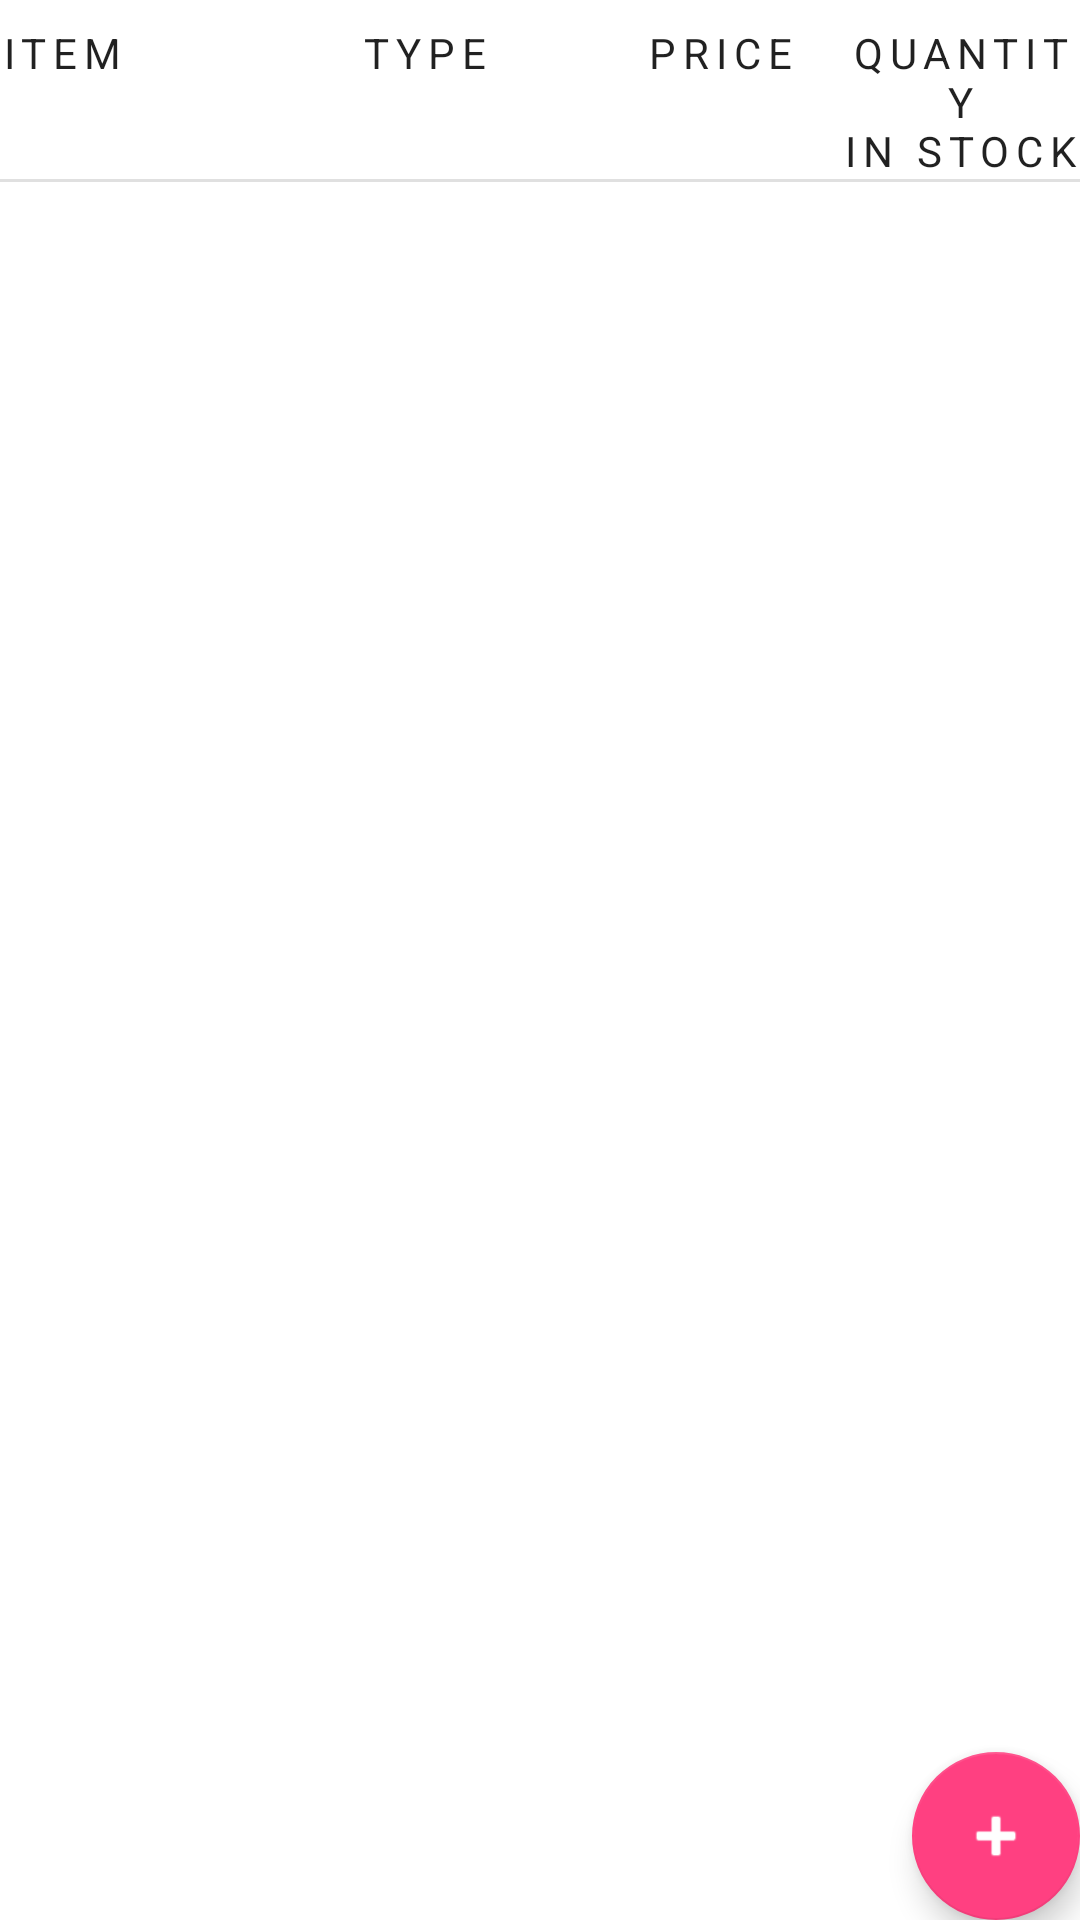

Icons on this 1080px×1920px Android screen, each with its box as (x1, y1, x2, y2):
Add new item: (912, 1752, 1080, 1920)
